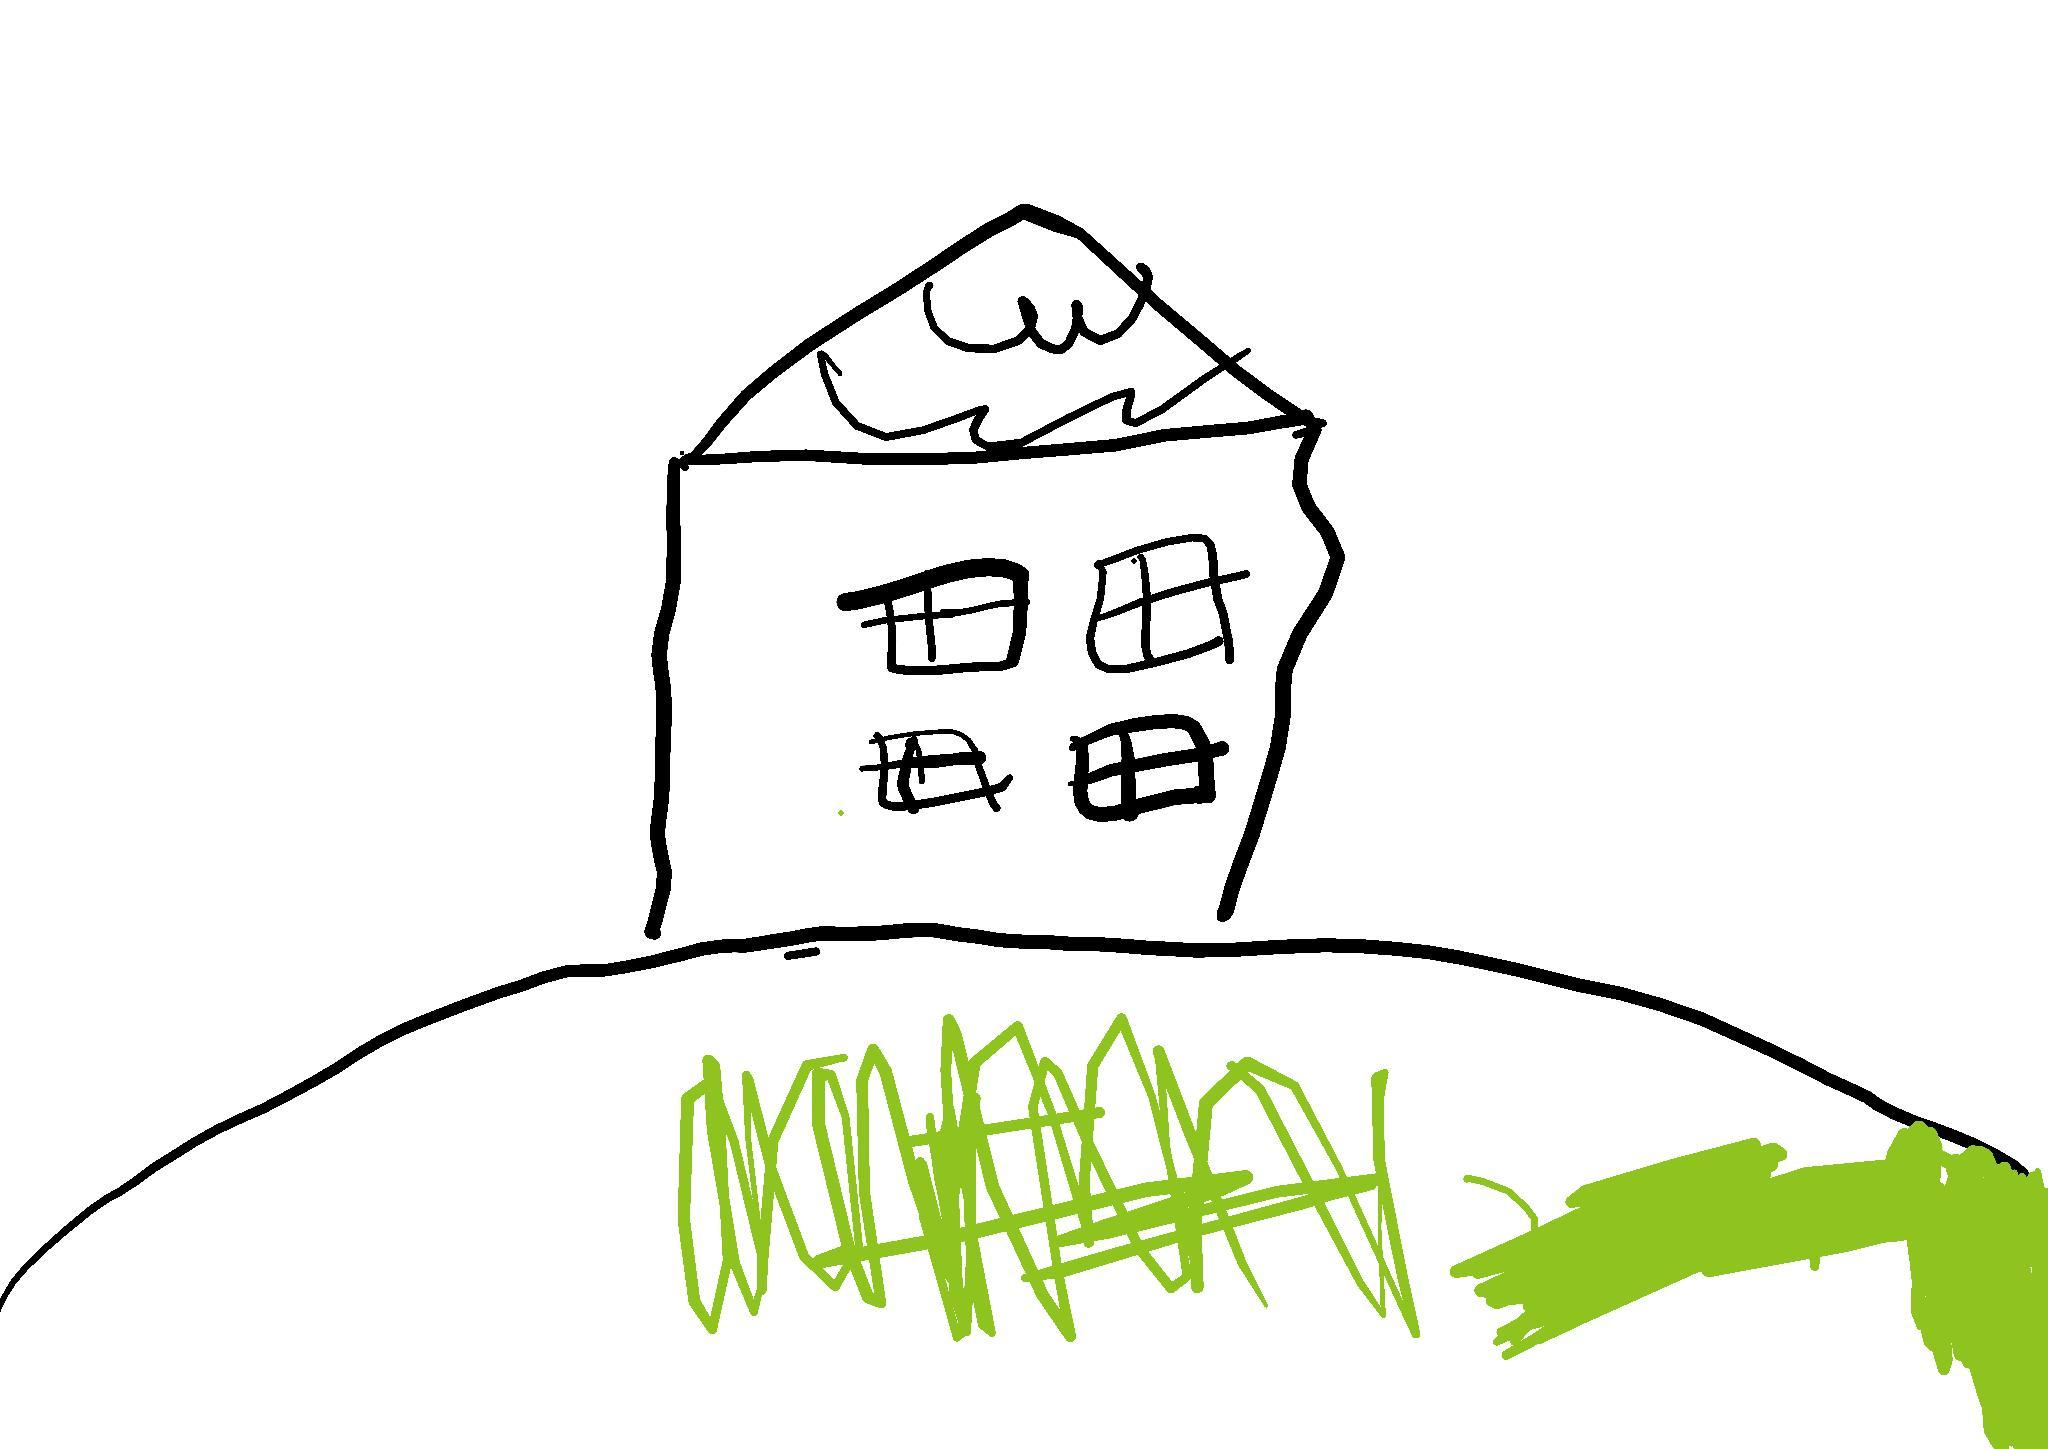house: (645, 202, 1345, 939)
roof: (699, 205, 1309, 455)
wall: (651, 420, 1338, 953)
window: (1087, 533, 1250, 673), (837, 558, 1030, 674), (1073, 714, 1229, 822), (859, 729, 1013, 812)
